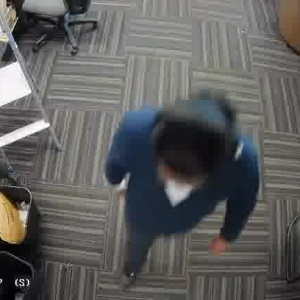person: (109, 82, 257, 280)
